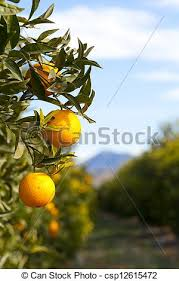orange: (39, 109, 82, 149), (26, 60, 62, 98), (21, 172, 56, 208)
